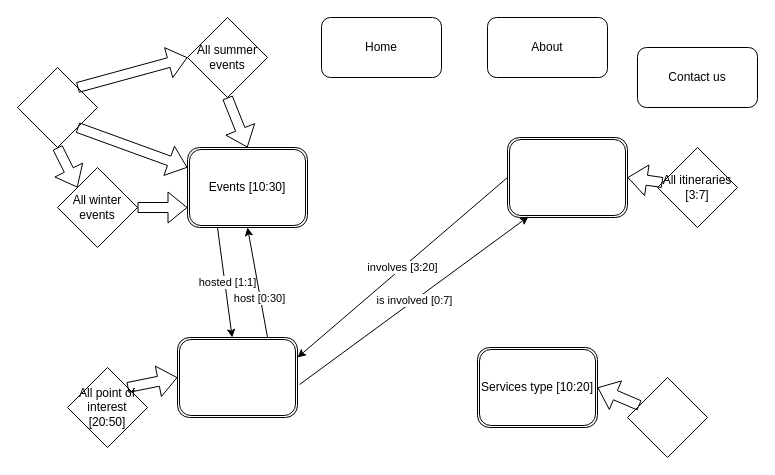
The diagram is 775 pixels wide and 475 high, and some of its shapes have lost their labels. The centre of each missing label's shape, as x and y in pixels:
"All events [10:30]" goes at pixel 57 107.
"All services [10:20]" goes at pixel 667 417.
"Itineraries [3:7]" goes at pixel 567 177.
"Points of interest [20:50]" goes at pixel 237 377.
